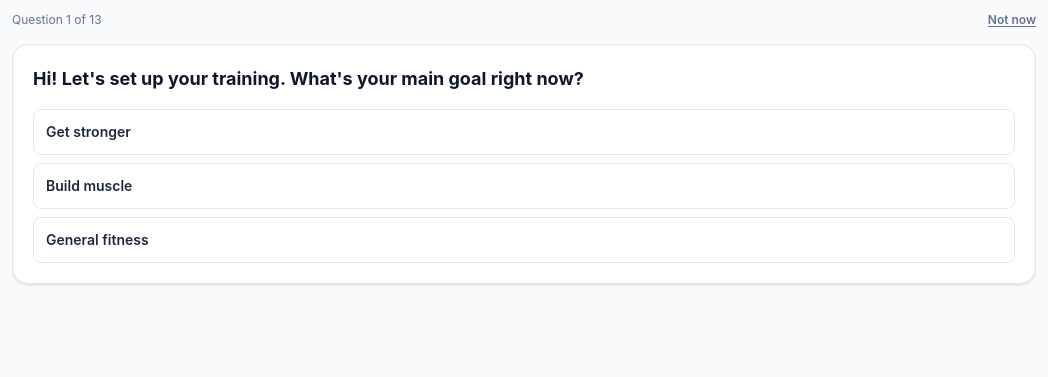
Test: The setup conversation on Home (S-015) › goes back one question
Click the button "Get stronger".
click(88, 132)  # box [33,109,1015,155]
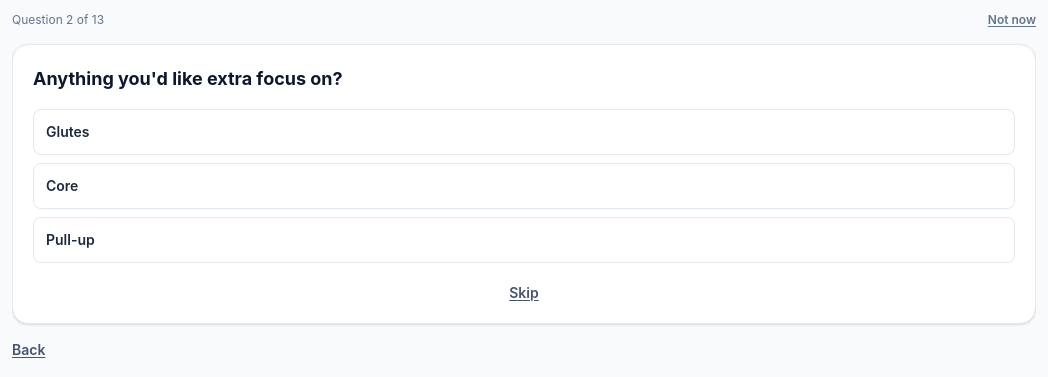
Click the button "Back".
click(29, 350)  # box [12,340,45,360]
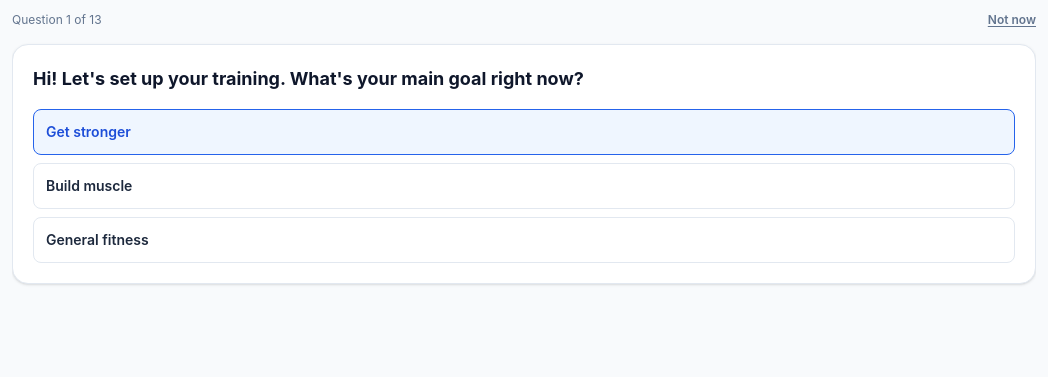
Expected: the text "What's your main goal right now?" is shown, [33,68,584,89]
